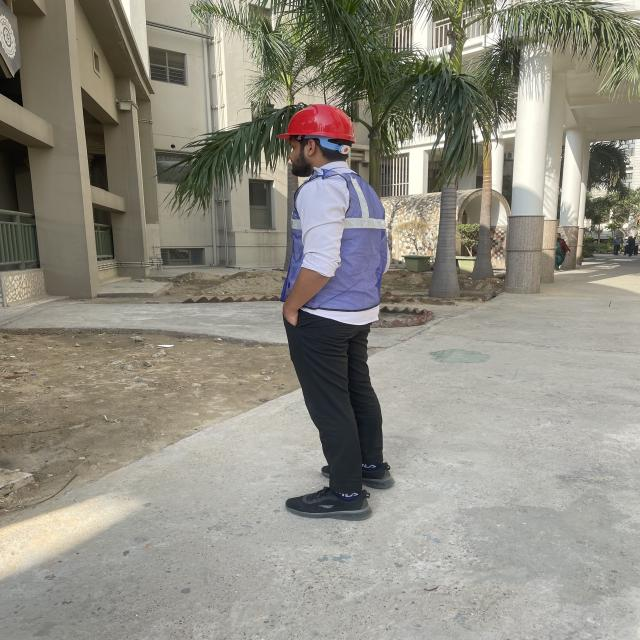safe: (278, 104, 398, 522)
